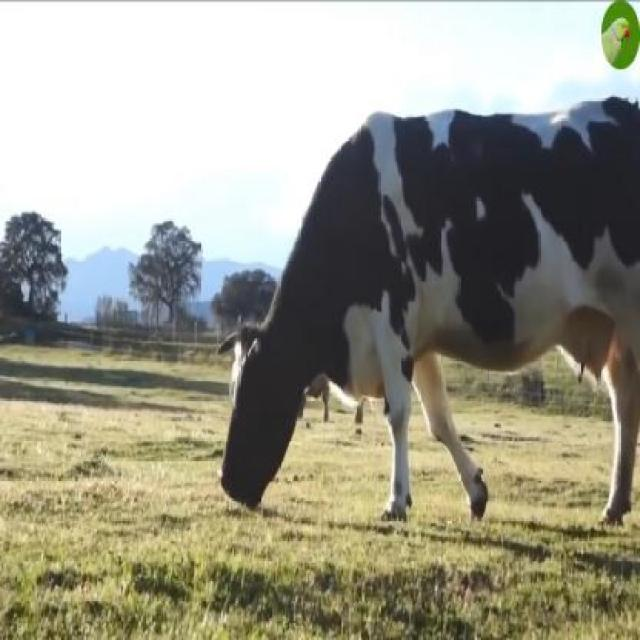Cow: (217, 95, 638, 534)
